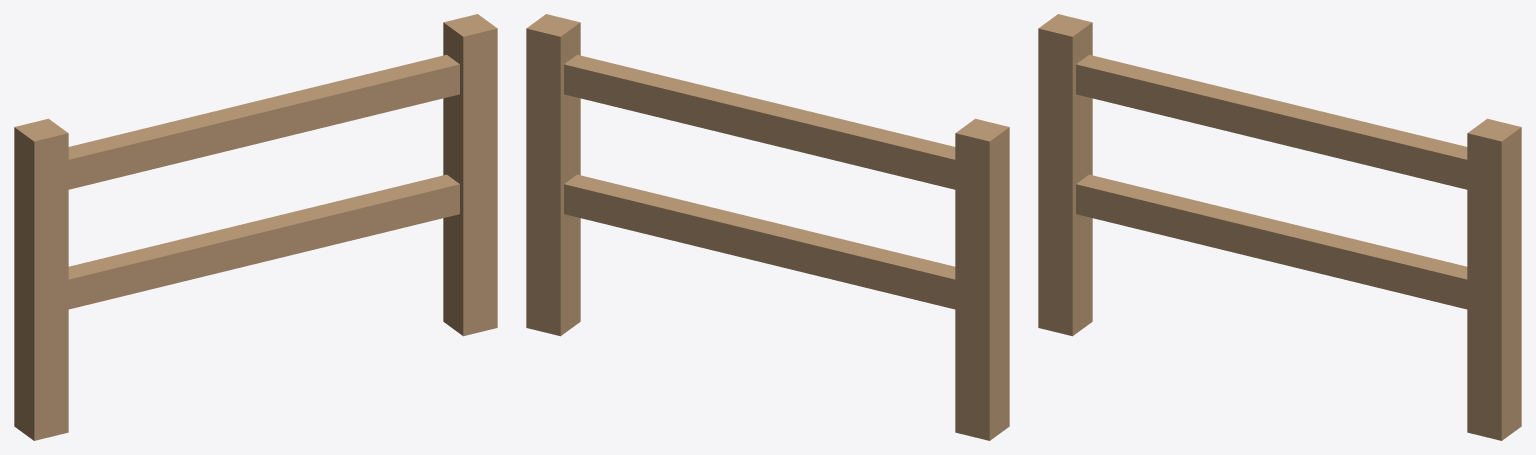
Rendered from Prop_DS_Fence_Seg_01.glb.
The picture shows the model from 3 angles, left to right: view 1: azimuth 30°, elevation 25°; view 2: azimuth 150°, elevation 25°; view 3: azimuth 330°, elevation 25°; orthographic projection.
Visible parts, largest first — view 1: Prop_DS_Fence_Seg_01; view 2: Prop_DS_Fence_Seg_01; view 3: Prop_DS_Fence_Seg_01.
Boxes of the visible parts, <box> form: Prop_DS_Fence_Seg_01: <box>14,14,497,440</box>; Prop_DS_Fence_Seg_01: <box>526,14,1009,440</box>; Prop_DS_Fence_Seg_01: <box>1038,14,1521,440</box>.
Size of the model in its own units: 1.62 by 1 by 0.12.
